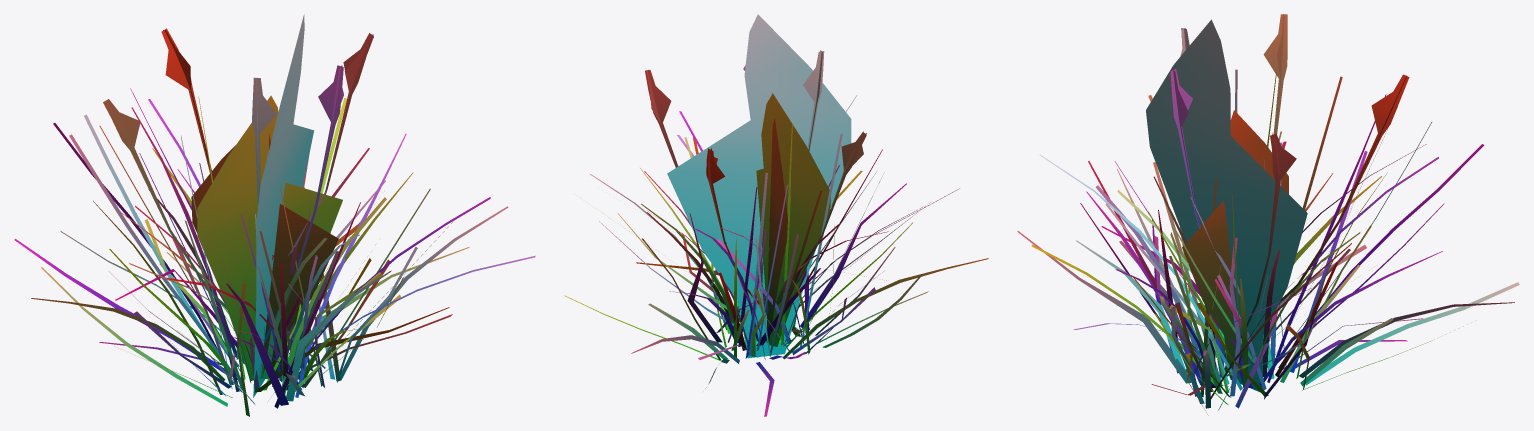
Rendered from Wild_Grass_vlkhcbxia_High_vlkhcbxia_VarA_LOD2.fbx.
The picture shows the model from 3 angles, left to right: view 1: azimuth 30°, elevation 25°; view 2: azimuth 150°, elevation 25°; view 3: azimuth 270°, elevation 25°; orthographic projection. The views are drawn at different scales.
Visible parts, largest first — view 1: _dvdr_VarA_LOD3; view 2: _dvdr_VarA_LOD3; view 3: _dvdr_VarA_LOD3.
Boxes of the visible parts, x1,y1,x2,y2 form: _dvdr_VarA_LOD3: [14, 14, 535, 416]; _dvdr_VarA_LOD3: [564, 14, 988, 416]; _dvdr_VarA_LOD3: [1017, 14, 1519, 415].
Size of the model in its own units: 53.09 by 40.96 by 49.04.
